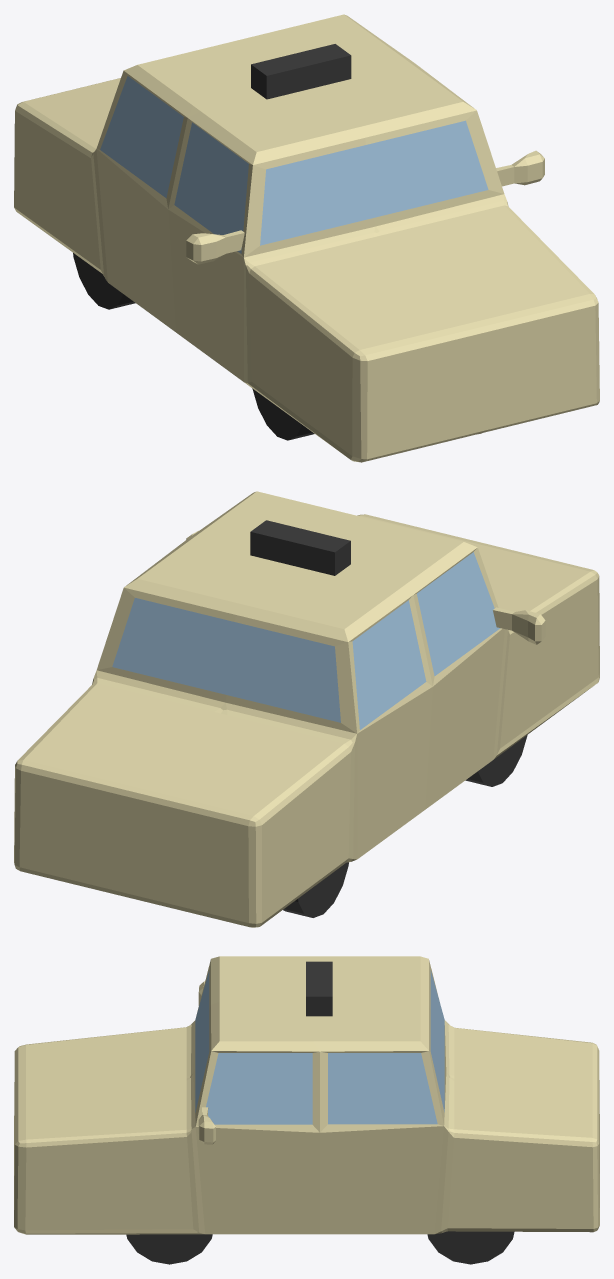
The model's file is Taxi.fbx.
3 renders of one model, top to bottom at view 1: azimuth 30°, elevation 25°; view 2: azimuth 150°, elevation 25°; view 3: azimuth 270°, elevation 25°, orthographic. The views are drawn at different scales.
Parts seen in each view (by area): view 1: Cube.001; view 2: Cube.001; view 3: Cube.001.
Part boxes in pixels (x1,y1,x2,y2): Cube.001: (14, 14, 599, 462); Cube.001: (14, 491, 599, 927); Cube.001: (14, 956, 599, 1264).
Size of the model in its own units: 501 by 384 by 851.
